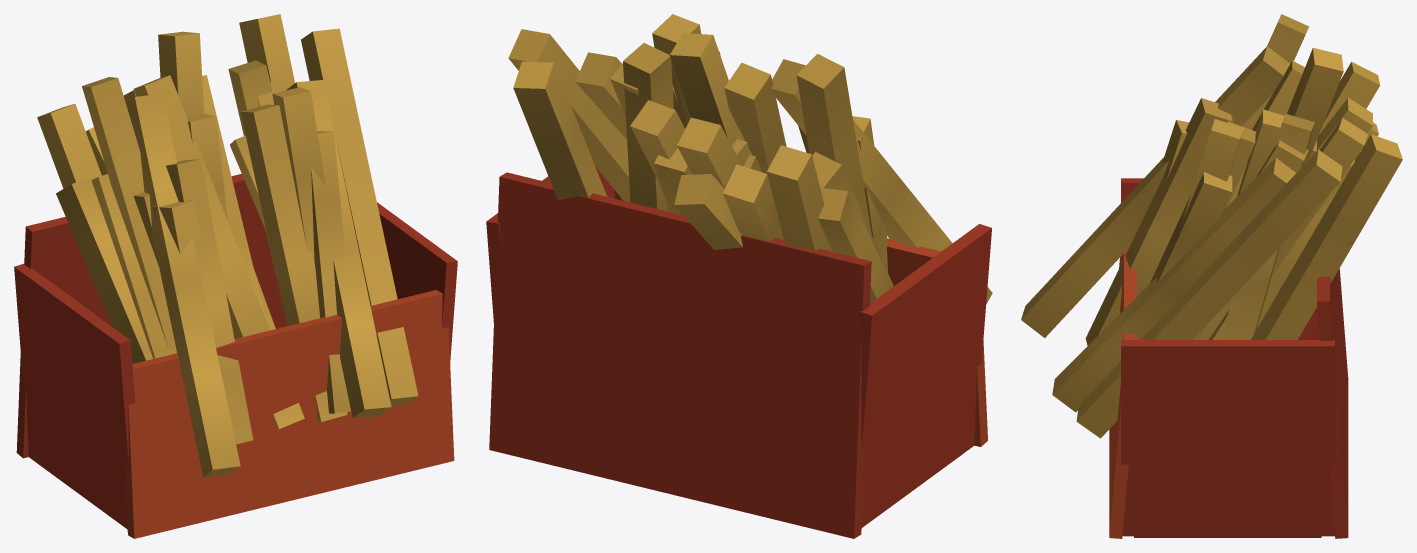
File: fries.glb
The picture shows the model from 3 angles, left to right: view 1: azimuth 30°, elevation 25°; view 2: azimuth 150°, elevation 25°; view 3: azimuth 270°, elevation 25°; orthographic projection. The views are drawn at different scales.
Visible parts, largest first — view 1: fries; view 2: fries; view 3: fries.
Boxes of the visible parts, x1,y1,x2,y2 form: fries: [14, 14, 457, 538]; fries: [486, 14, 992, 538]; fries: [1021, 14, 1402, 538].
Size of the model in its own units: 0.091 by 0.1026 by 0.0875.
